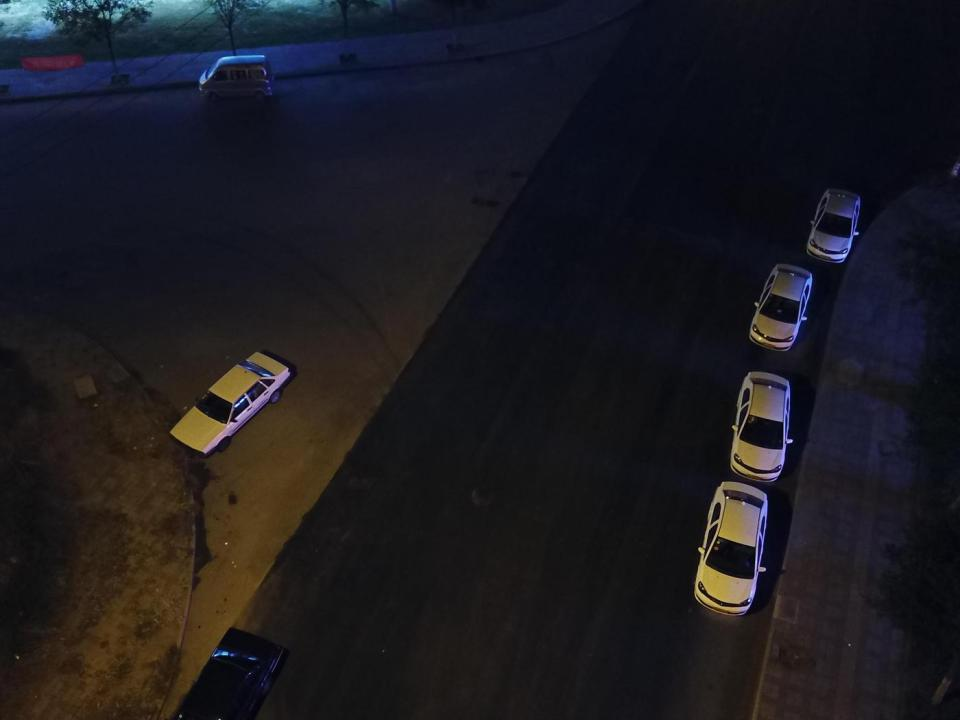car: (168, 352, 292, 459), (166, 626, 290, 720), (693, 481, 768, 617), (729, 371, 794, 483), (747, 262, 814, 352), (806, 187, 861, 264)
van: (198, 55, 276, 103)
